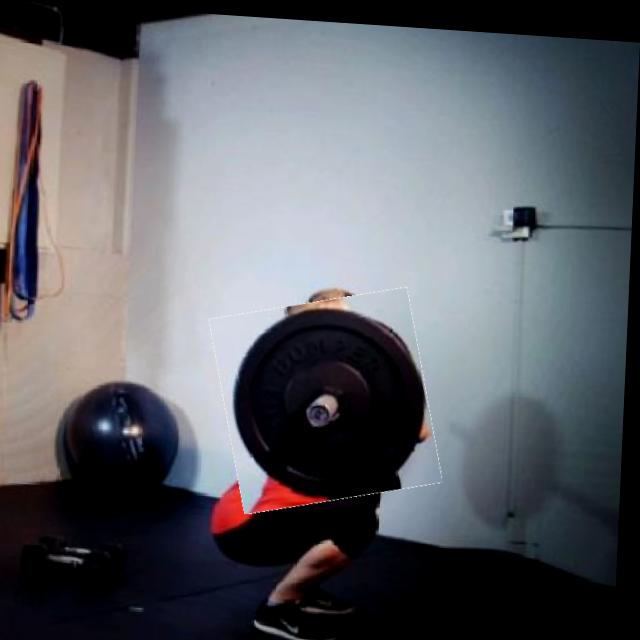barbell: (216, 282, 444, 511)
